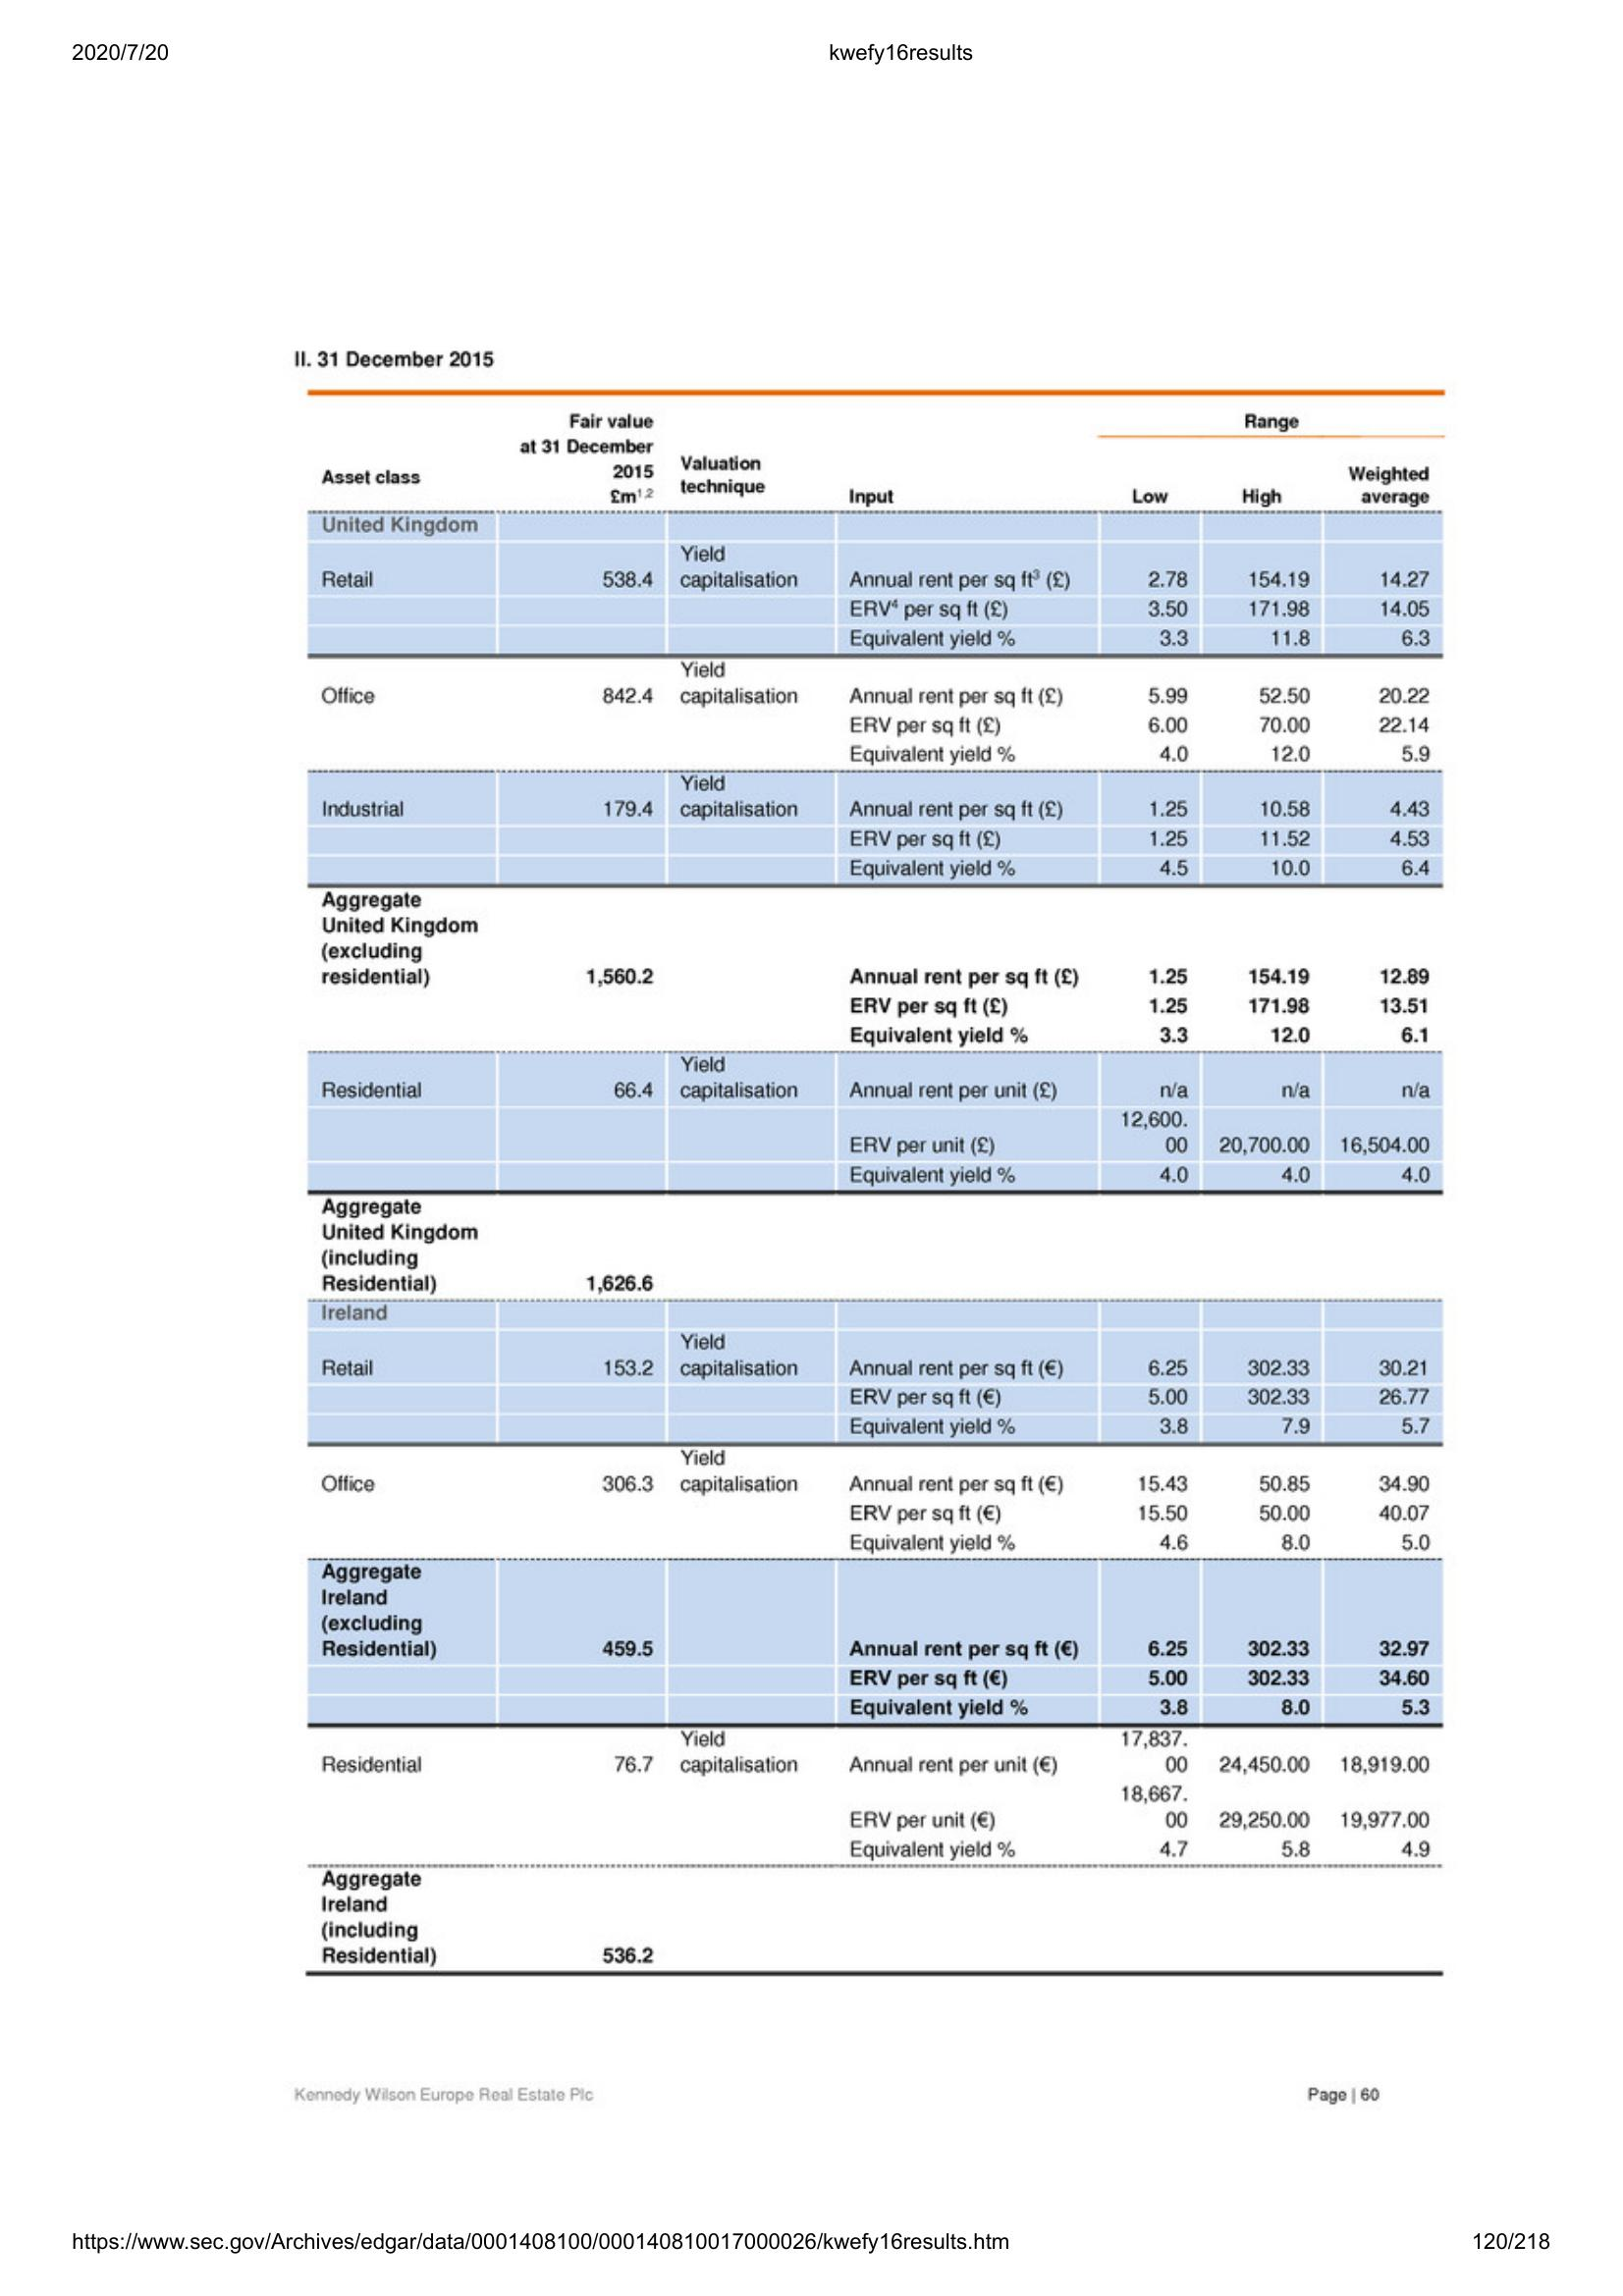table: (302, 386, 1451, 1985)
